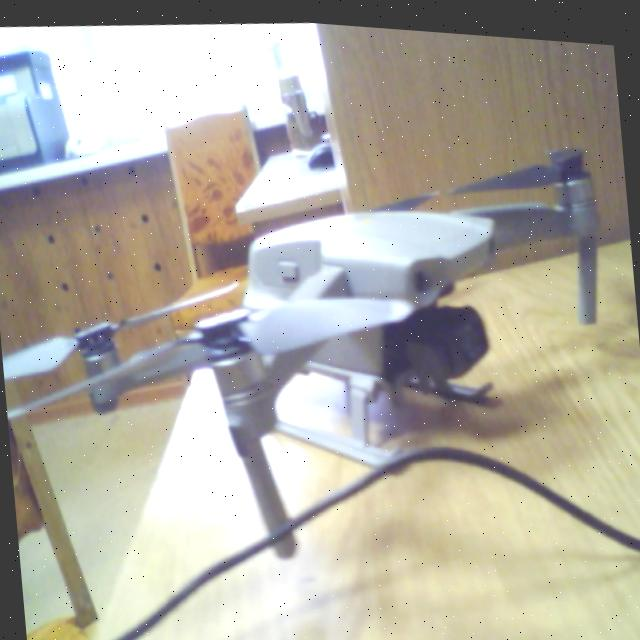drone: (0, 97, 640, 587)
